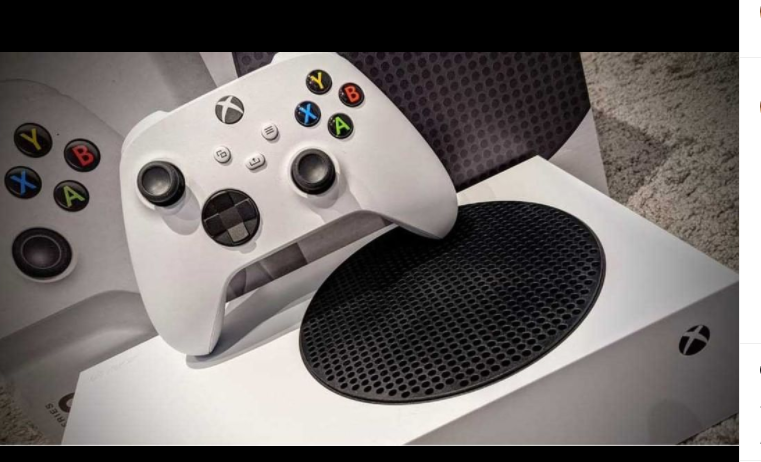gamingconsole: (117, 53, 459, 351)
